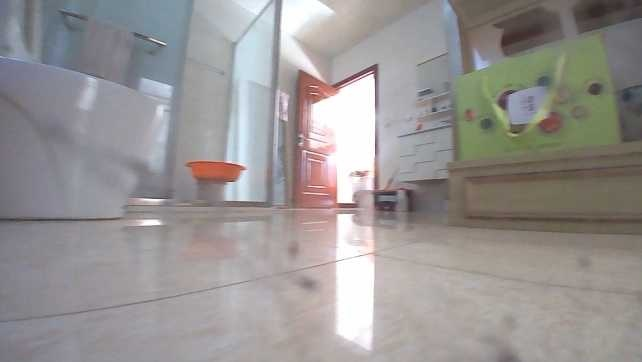toilet: (0, 51, 165, 231)
